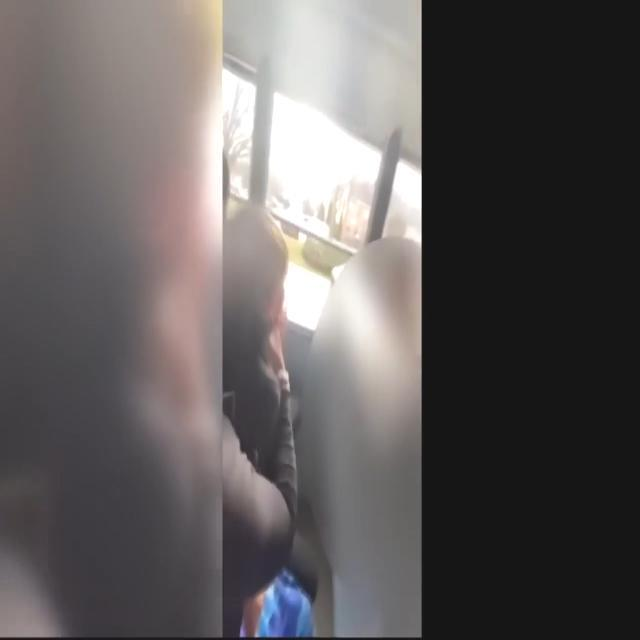fight: (208, 136, 318, 604)
